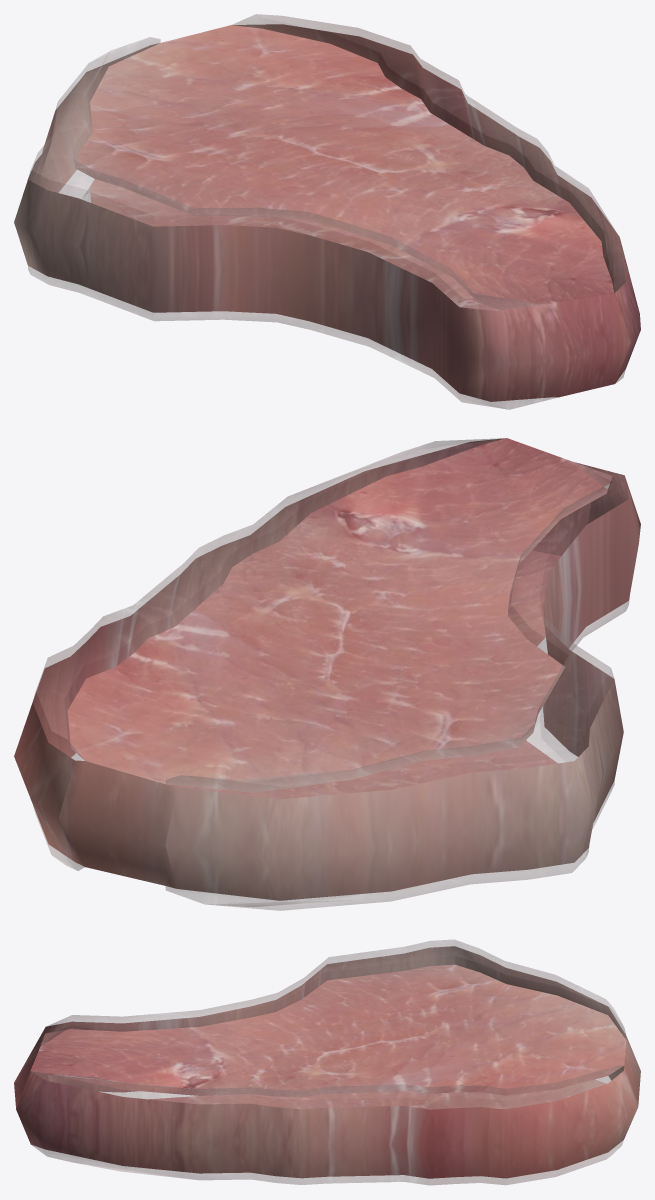
The model's file is steak-raw.glb.
The picture shows the model from 3 angles, top to bottom: view 1: azimuth 30°, elevation 25°; view 2: azimuth 150°, elevation 25°; view 3: azimuth 270°, elevation 25°; orthographic projection. The views are drawn at different scales.
Visible parts, largest first — view 1: Steak; view 2: Steak; view 3: Steak.
Boxes of the visible parts, x1=… form: Steak: x1=14, y1=14, x2=640, y2=409; Steak: x1=14, y1=438, x2=640, y2=910; Steak: x1=14, y1=939, x2=640, y2=1185.
Size of the model in its own units: 0.1034 by 0.0249 by 0.16.
2 materials, 2 textured.
